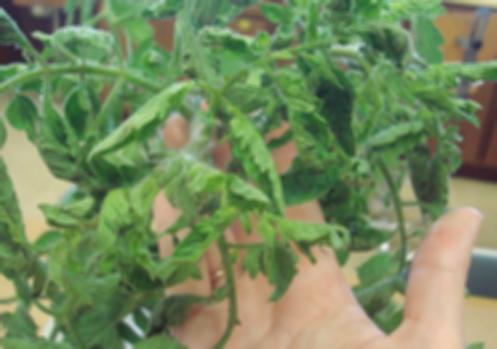Tomato leaf mosaic virus: (91, 75, 202, 159), (216, 94, 283, 214), (164, 207, 239, 265), (287, 85, 333, 172), (1, 92, 43, 145), (139, 0, 192, 23)
